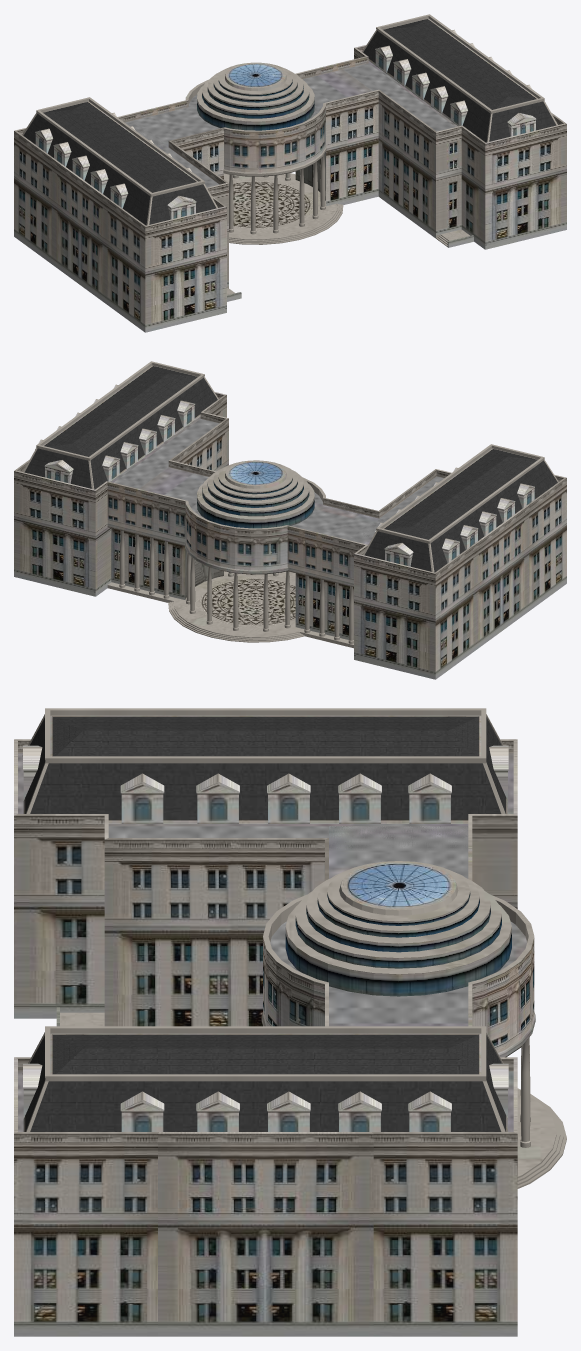
3 renders of one model, top to bottom at view 1: azimuth 30°, elevation 25°; view 2: azimuth 150°, elevation 25°; view 3: azimuth 270°, elevation 25°, orthographic. The views are drawn at different scales.
Visible parts, largest first — view 1: HN592_ToaAnNDToiCao; view 2: HN592_ToaAnNDToiCao; view 3: HN592_ToaAnNDToiCao.
Part boxes in pixels (x1,y1,x2,y2): HN592_ToaAnNDToiCao: (14, 14, 566, 332); HN592_ToaAnNDToiCao: (14, 361, 566, 679); HN592_ToaAnNDToiCao: (14, 708, 566, 1336).
Size of the model in its own units: 82.5 by 24.75 by 48.87.
1 material, 1 textured.
